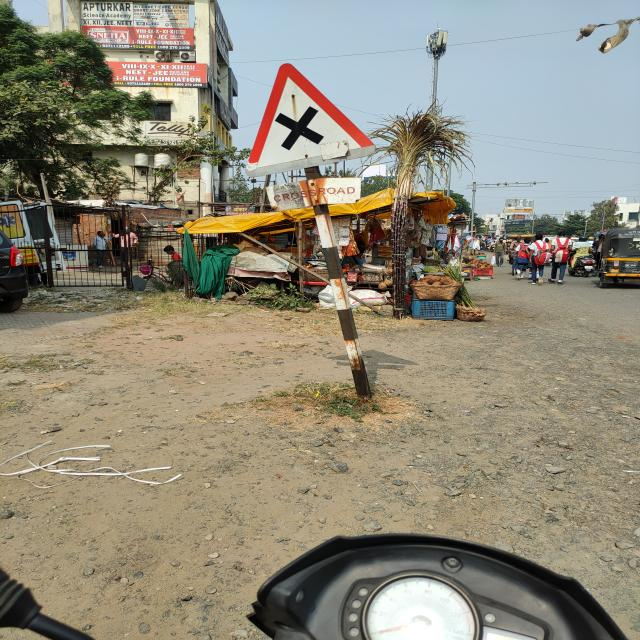CROSS_ROAD: (245, 60, 382, 174)
